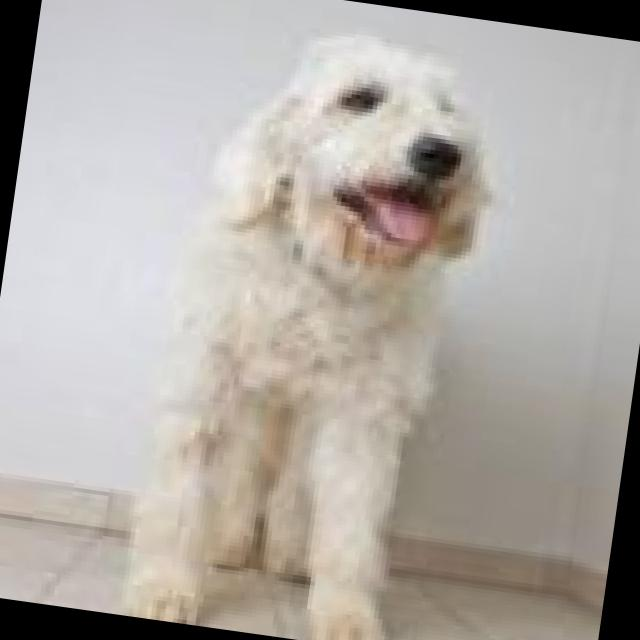Perro: (106, 7, 544, 640)
